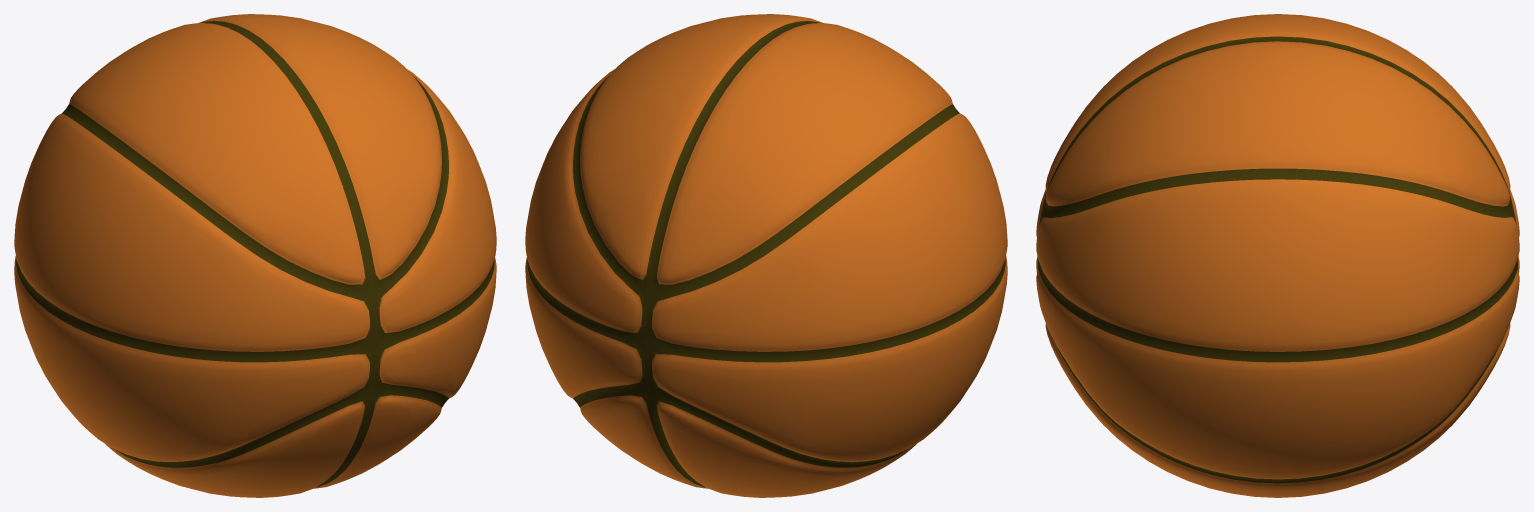
Rendered from asset.gltf.
3 views of the same model, side by side, from view 1: azimuth 30°, elevation 25°; view 2: azimuth 150°, elevation 25°; view 3: azimuth 270°, elevation 25° (orthographic).
Parts seen in each view (by area): view 1: Cube; view 2: Cube; view 3: Cube.
Boxes of the visible parts, left/top/right/bottom form: Cube: left=14, top=14, right=496, bottom=497; Cube: left=525, top=14, right=1007, bottom=497; Cube: left=1036, top=14, right=1519, bottom=497.
Size of the model in its own units: 162 by 162 by 162.
1 material, 1 textured.
